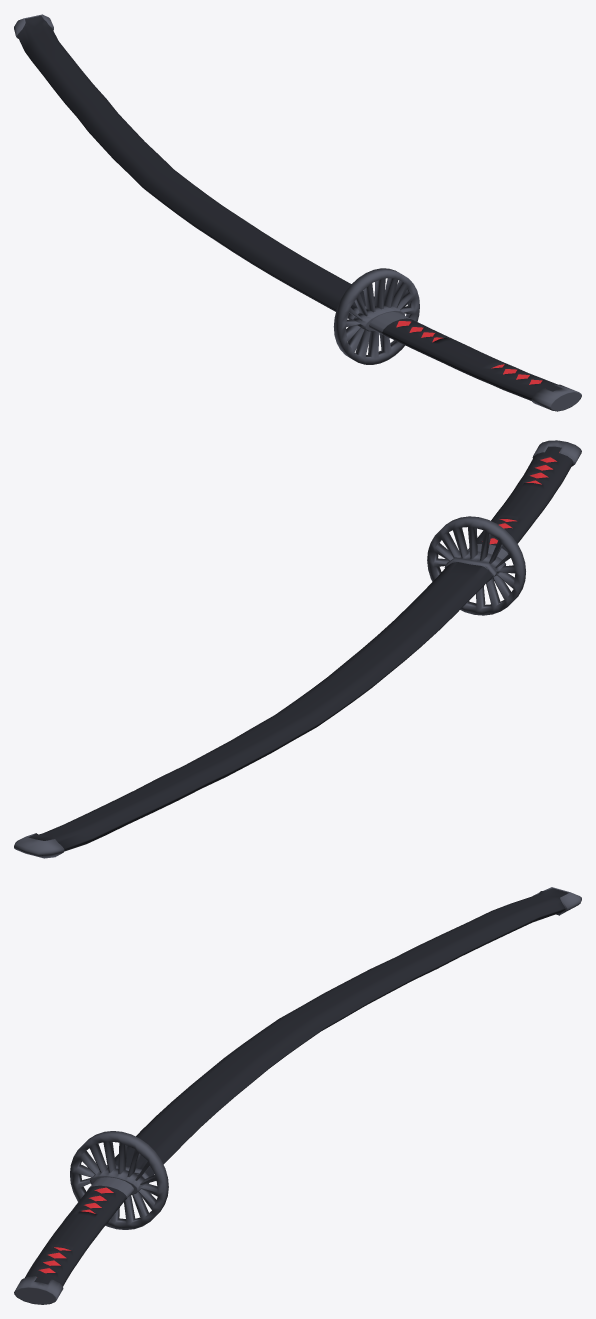
Rendered from Tanjiro_Demon_Slayer_Swords.fbx.
3 renders of one model, top to bottom at view 1: azimuth 30°, elevation 25°; view 2: azimuth 150°, elevation 25°; view 3: azimuth 330°, elevation 25°, orthographic. The views are drawn at different scales.
Parts seen in each view (by area): view 1: Cube.003, Cylinder, Cylinder.001; view 2: Cube.003, Cylinder, Cylinder.001; view 3: Cube.003, Cylinder, Cylinder.001.
Part boxes in pixels (x1,y1,x2,y2): Cube.003: (14,14,374,319); Cylinder: (333,268,581,411); Cylinder.001: (382,318,561,400); Cube.003: (14,557,496,858); Cylinder: (427,440,581,615); Cylinder.001: (477,446,573,553); Cube.003: (106,887,581,1183); Cylinder: (14,1131,168,1304); Cylinder.001: (25,1185,126,1286).
Size of the model in its own units: 483 by 354 by 3789.
